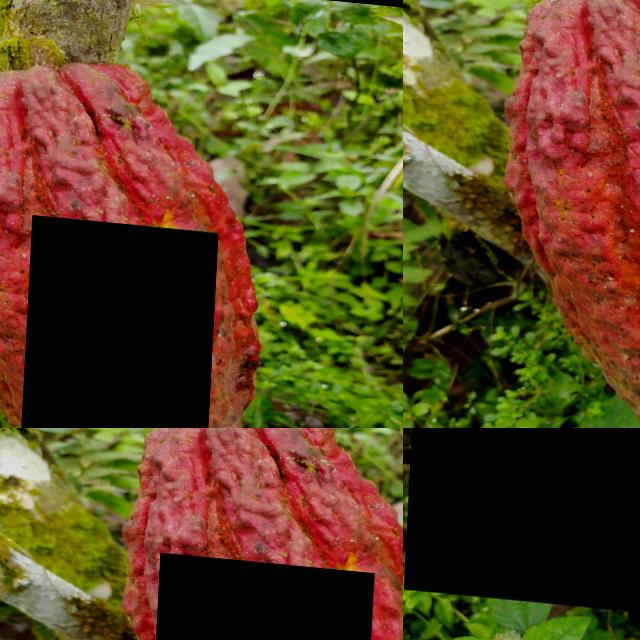Monilia: (20, 210, 221, 428), (153, 549, 377, 640)
Sana: (410, 428, 640, 611)
